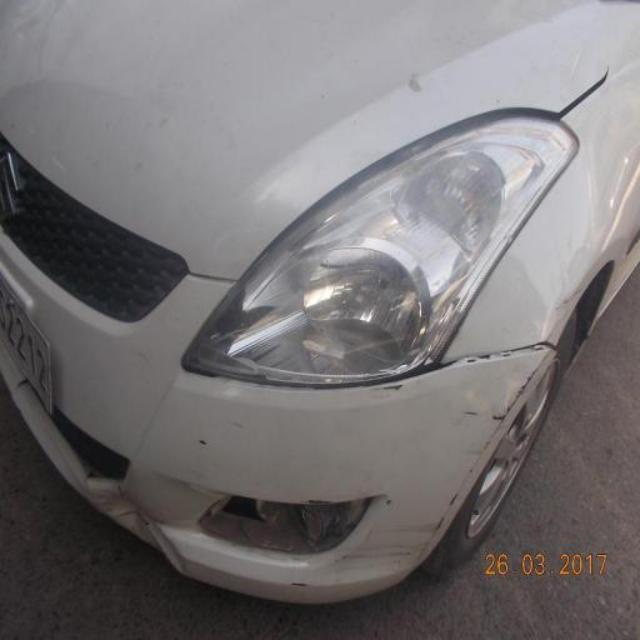dent: (86, 469, 200, 566)
dislocated part: (367, 338, 557, 383)
scratch: (417, 361, 539, 561)
